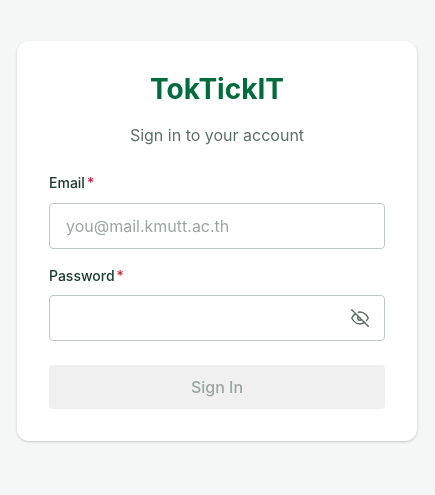
Scenario: LoginForm (UI-01 / UI-02) › shows the safe 401 banner without leaking details
Type "alice@test.com" into the field with test id "login-email" at (217,226), box [49,203,385,249]
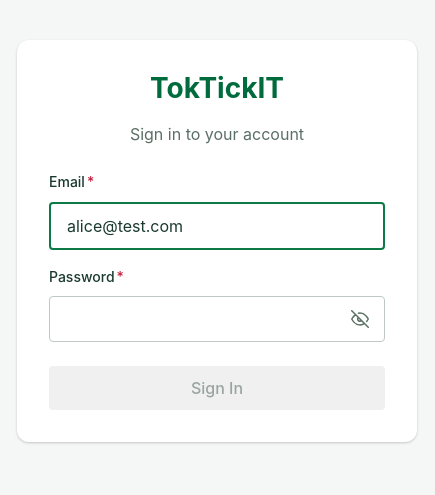
Type "wrong-password" into the password field with test id "login-password" at (217,319), box [49,296,385,342]
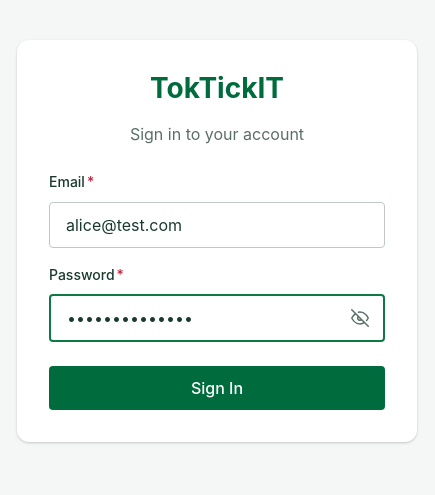
Click the button with test id "login-submit-btn" at (217,388), box [49,366,385,410]
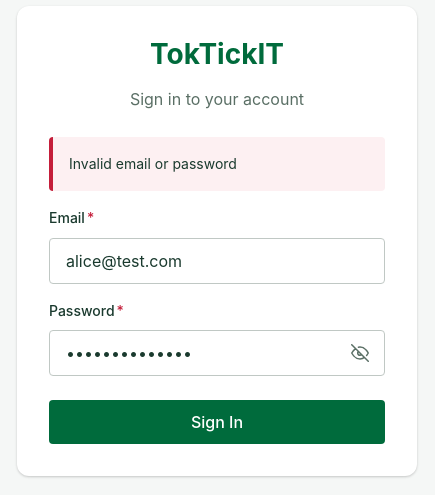
Expected: the message with test id "login-error" reads "Invalid email or password", [69,155,237,172]
